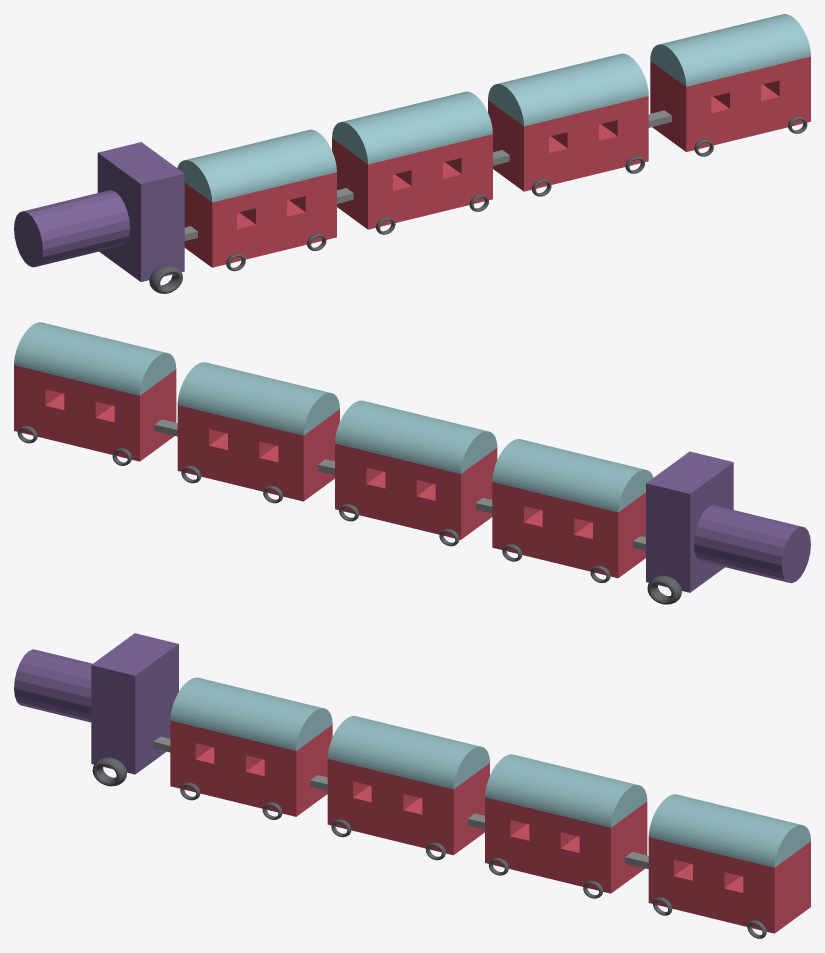
File: Neat Krunk.glb
3 views of the same model, one above another, from view 1: azimuth 30°, elevation 25°; view 2: azimuth 150°, elevation 25°; view 3: azimuth 330°, elevation 25° (orthographic).
Parts seen in each view (by area): view 1: Mesh_Mesh_head_geo.001_lambert2SG.001; view 2: Mesh_Mesh_head_geo.001_lambert2SG.001; view 3: Mesh_Mesh_head_geo.001_lambert2SG.001.
Part boxes in pixels (x1,y1,x2,y2): Mesh_Mesh_head_geo.001_lambert2SG.001: (14,14,810,293); Mesh_Mesh_head_geo.001_lambert2SG.001: (14,322,810,604); Mesh_Mesh_head_geo.001_lambert2SG.001: (14,633,810,938).
Size of the model in its own units: 122 by 17.02 by 16.
